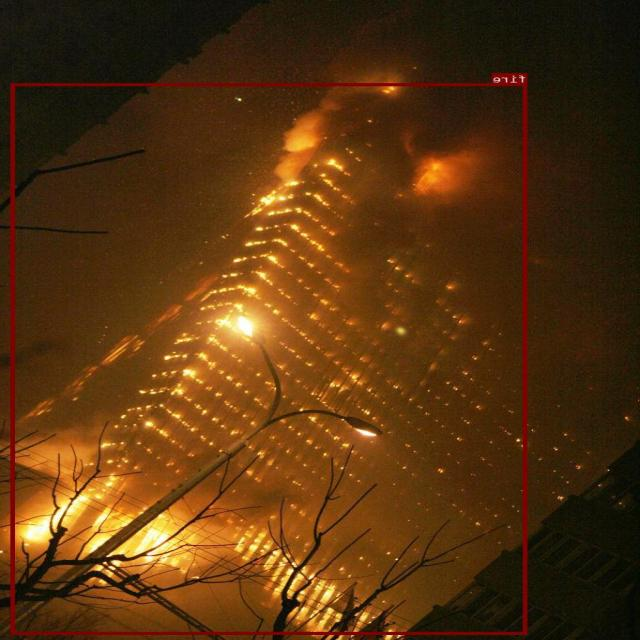fire: (11, 83, 528, 634)
